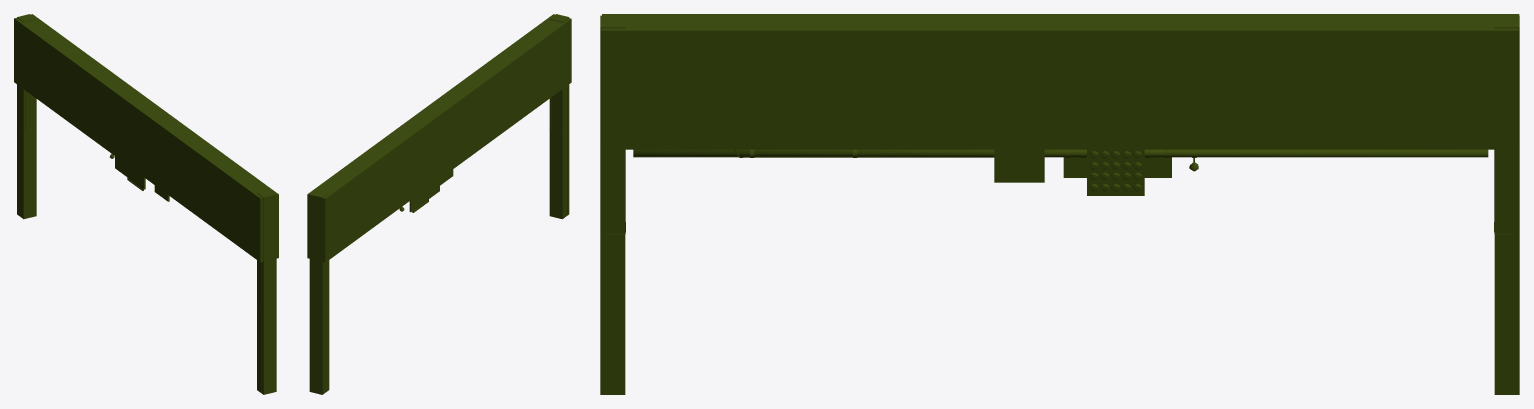
File: T2_BillboardStart_M.fbx
3 renders of one model, left to right at view 1: azimuth 30°, elevation 25°; view 2: azimuth 150°, elevation 25°; view 3: azimuth 270°, elevation 25°, orthographic. The views are drawn at different scales.
Visible parts, largest first — view 1: T2_BillboardStart; view 2: T2_BillboardStart; view 3: T2_BillboardStart.
Part boxes in pixels (x1,y1,x2,y2): T2_BillboardStart: (14, 14, 278, 394); T2_BillboardStart: (307, 14, 571, 394); T2_BillboardStart: (600, 14, 1519, 394).
Size of the model in its own units: 0.4445 by 4.57 by 10.37.
